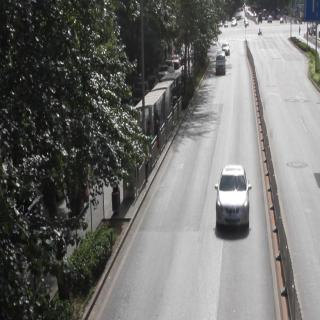Car: (213, 166, 251, 234), (215, 50, 226, 75), (223, 36, 231, 55)
